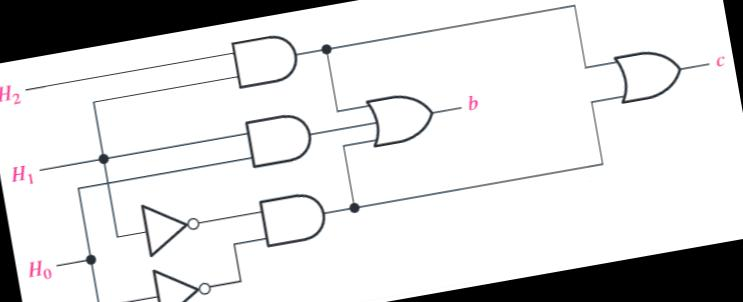and: (224, 27, 306, 94), (252, 185, 333, 252), (239, 107, 318, 172)
not: (134, 191, 207, 261), (145, 256, 219, 302)
or: (606, 41, 689, 108)
